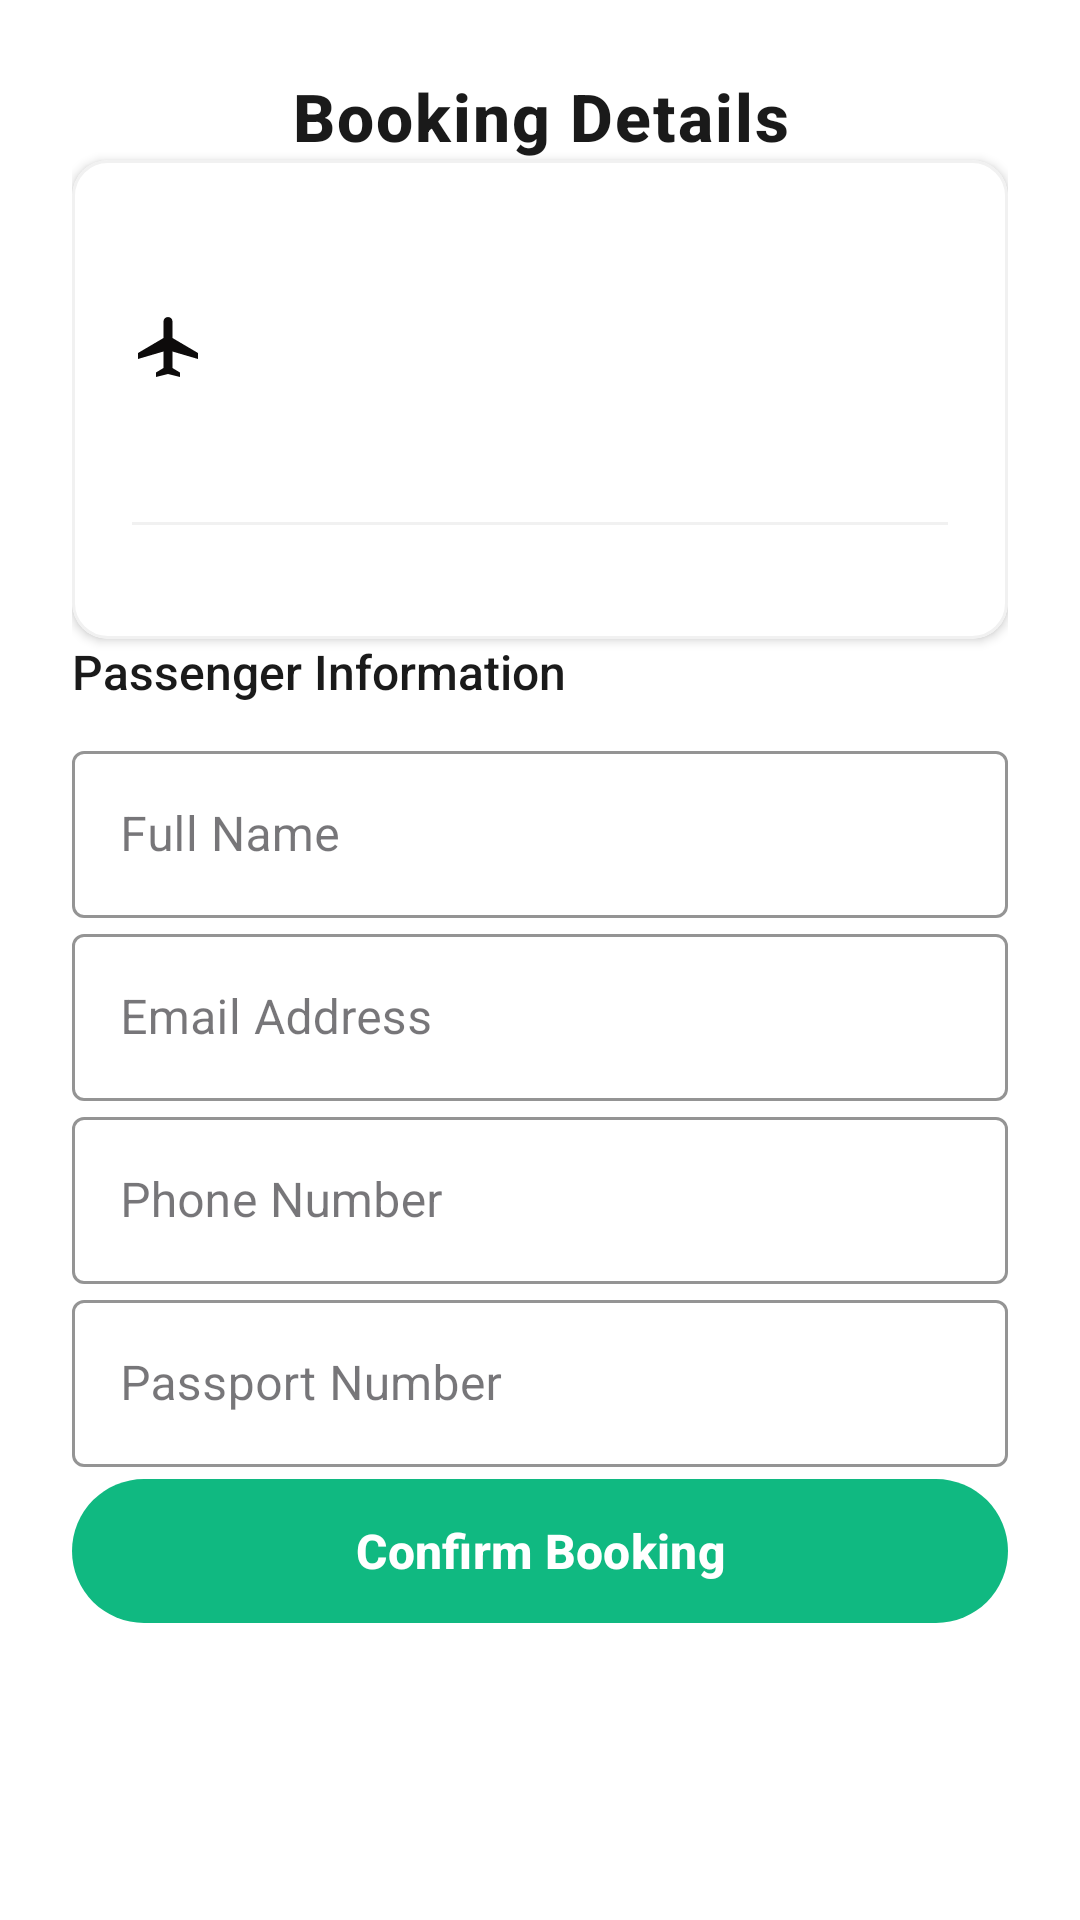

Icon bounding boxes for this 1080w x 1920h phone screenshot, format (x1, y1, x2, y2):
plane: (138, 317, 198, 377)
